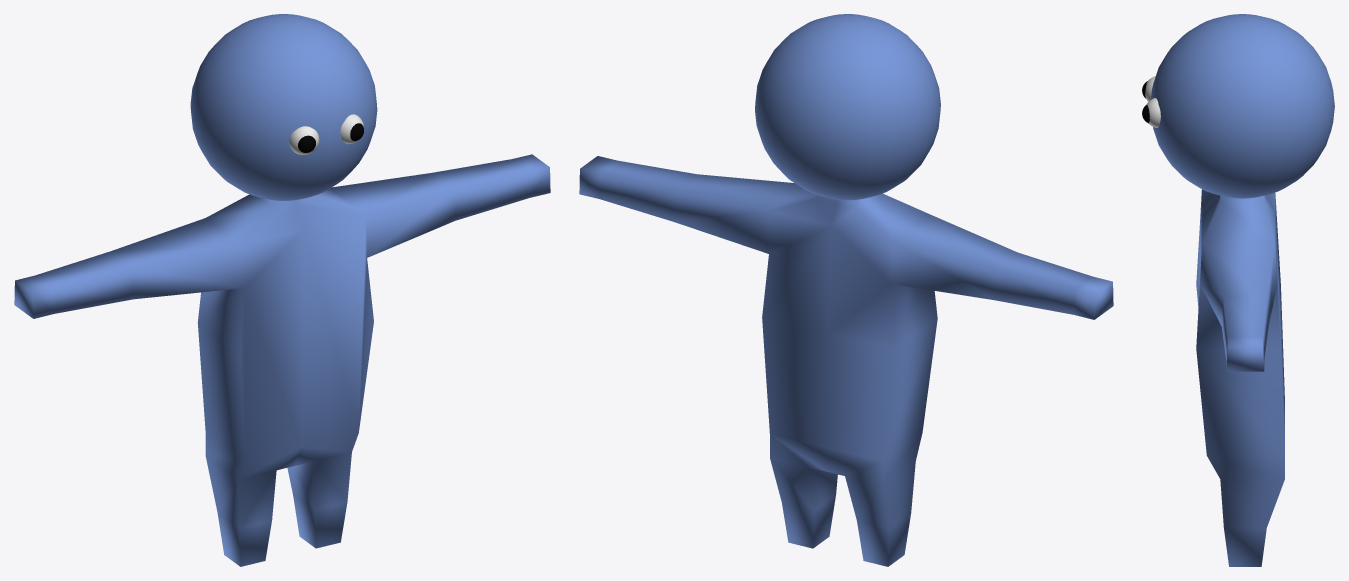
The model's file is LastKnownSurvivorRagdollnobones.fbx.
3 renders of one model, left to right at view 1: azimuth 30°, elevation 25°; view 2: azimuth 150°, elevation 25°; view 3: azimuth 270°, elevation 25°, orthographic.
Parts seen in each view (by area): view 1: Cube; view 2: Cube; view 3: Cube, Sphere.001.
Boxes of the visible parts, x1=… form: Cube: x1=14, y1=14, x2=550, y2=566; Cube: x1=579, y1=14, x2=1113, y2=566; Cube: x1=1150, y1=14, x2=1334, y2=566; Sphere.001: x1=1146, y1=98, x2=1160, y2=127.
Bounding box in the file's own units: 652 × 635 × 213.
